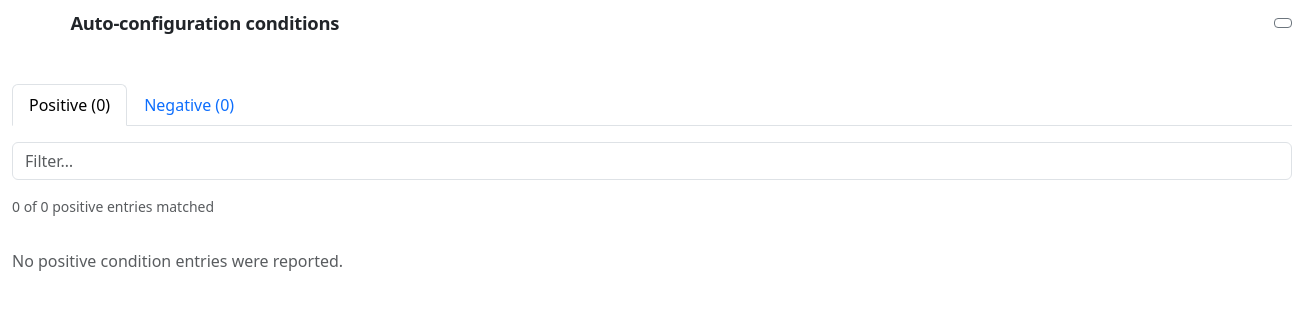
Test: Conditions › discards a stale response when the fetch mock ignores abort
Click the tab with class "nav-link" showing "Negative (0)". click: (189, 105)
box: [127, 84, 251, 126]
Wait 250 ms
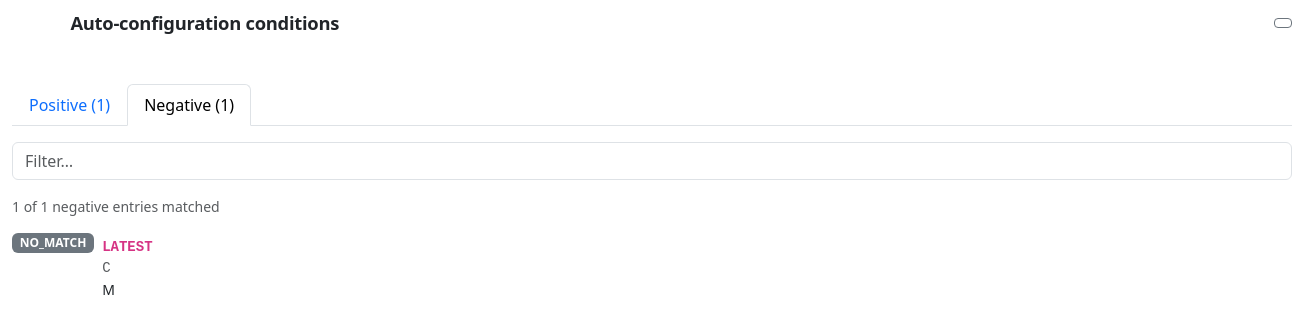
Now the text "LATEST" is shown, box [102, 239, 152, 255]
